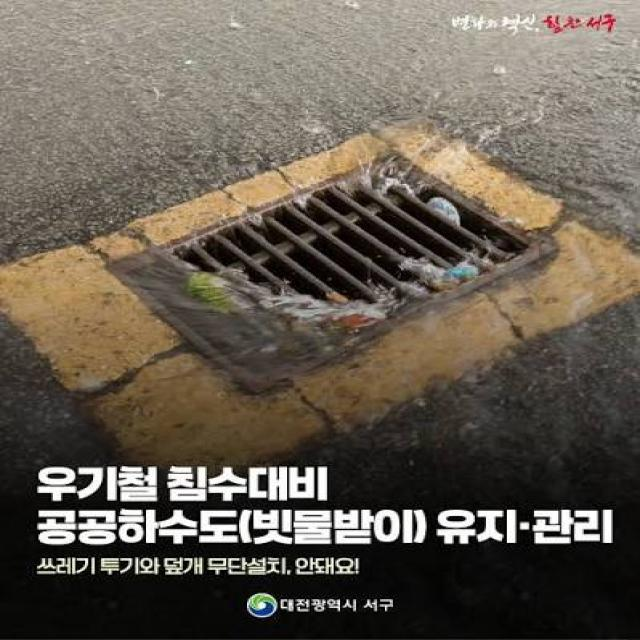drain_area: (174, 187, 535, 303)
drain_full: (118, 152, 546, 391)
